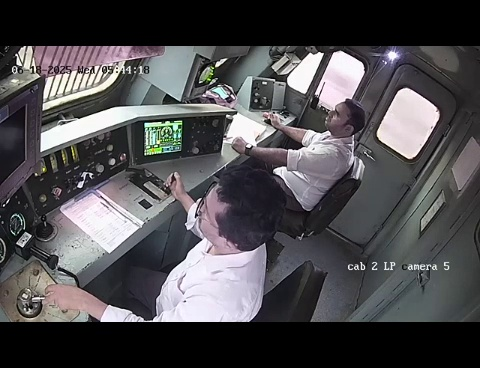brake_applied: (1, 254, 88, 321)
horn_inactive: (26, 208, 65, 246)
